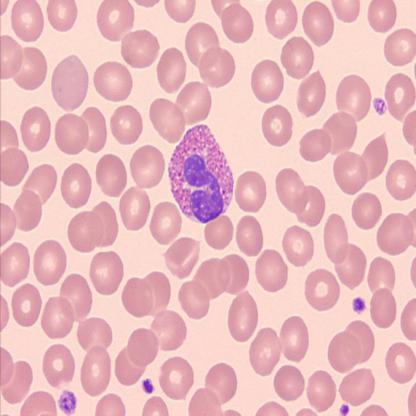Eosinophil: (165, 122, 235, 223)
